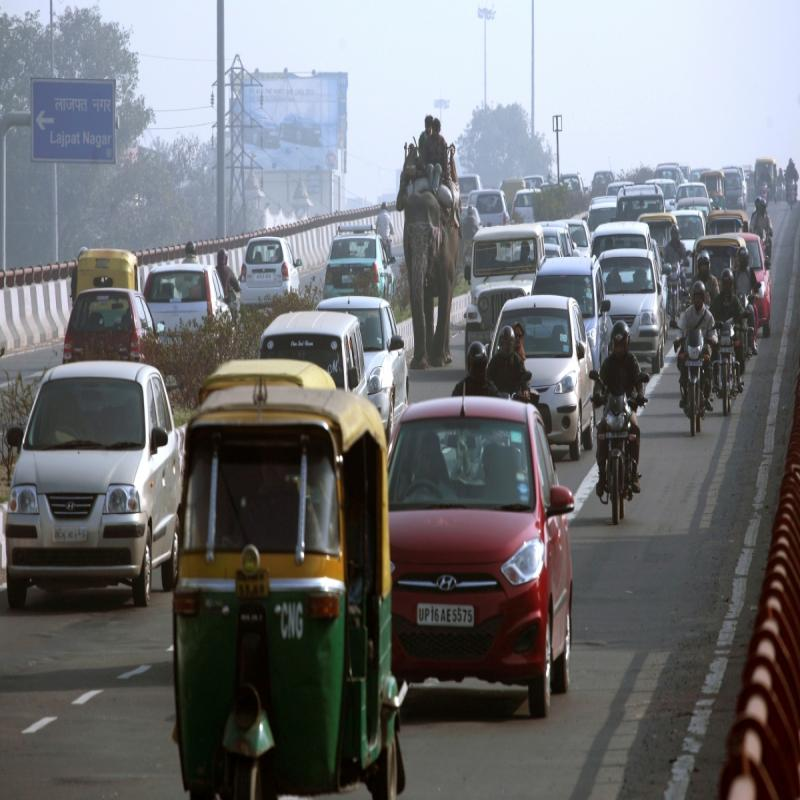car: (385, 373, 565, 692), (0, 360, 174, 601), (318, 280, 428, 447), (489, 295, 597, 426), (466, 221, 554, 379), (264, 312, 365, 436), (146, 260, 230, 367), (534, 258, 610, 361), (235, 227, 306, 322), (598, 245, 655, 361), (327, 221, 389, 310)
